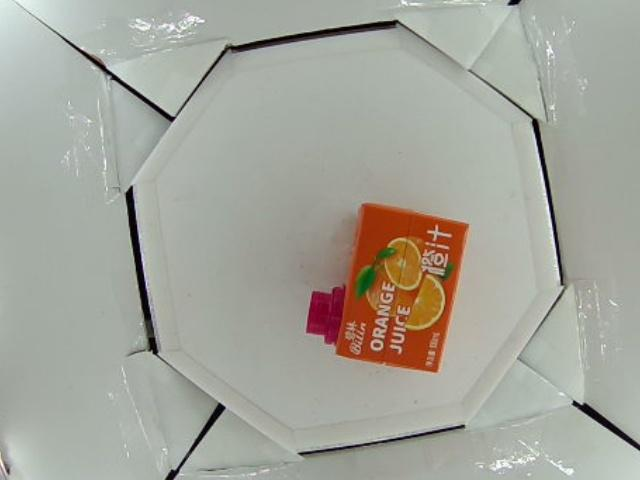Bottle: (307, 201, 469, 376)
